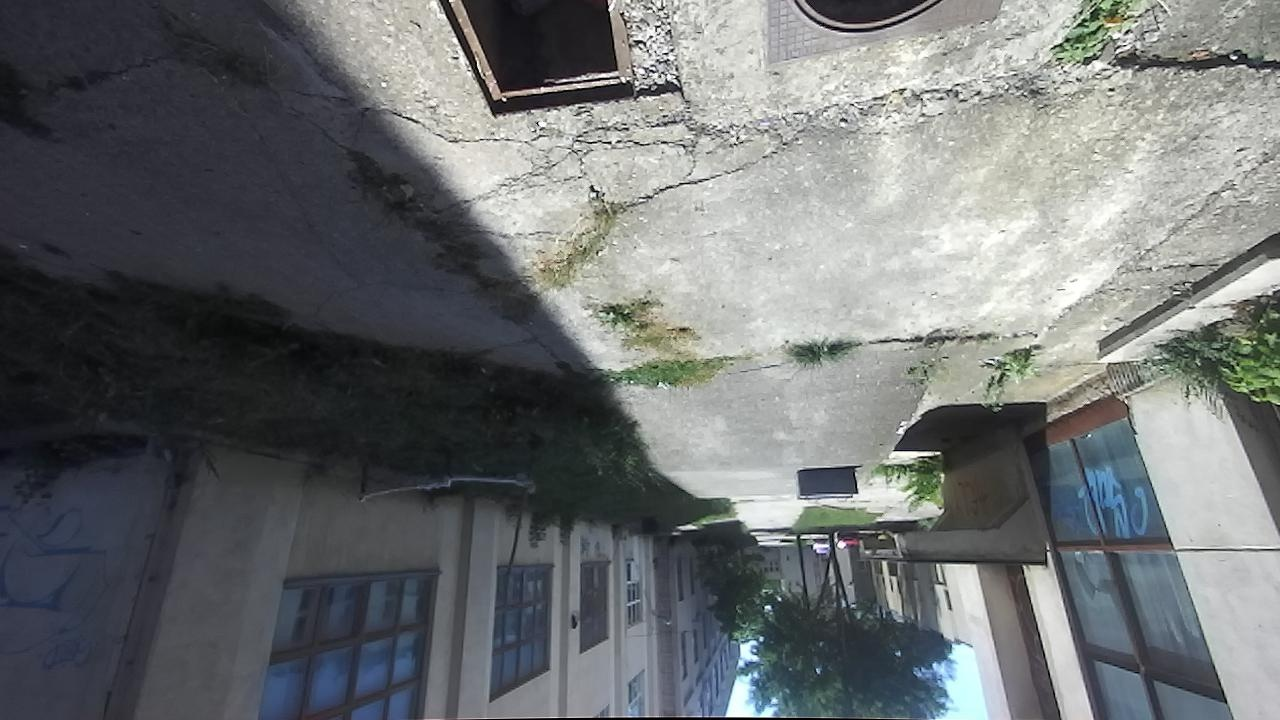drain: (432, 0, 639, 120), (772, 0, 953, 36)
